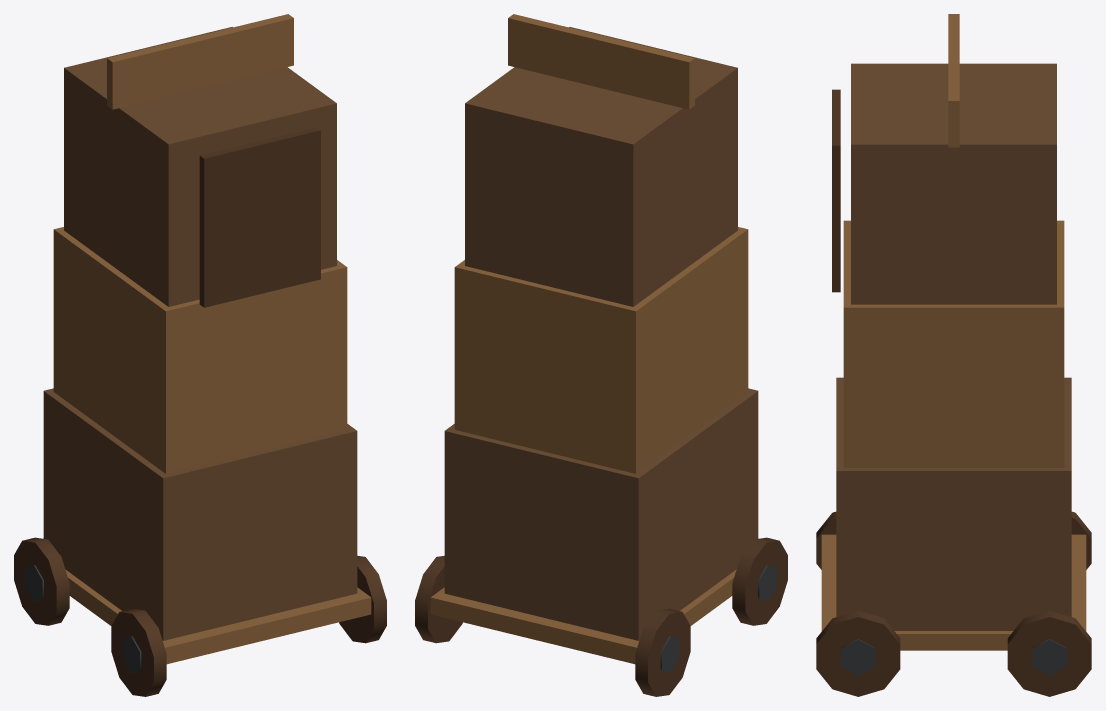
The model's file is unit_mil_siege_tower_a03.glb.
The picture shows the model from 3 angles, left to right: view 1: azimuth 30°, elevation 25°; view 2: azimuth 150°, elevation 25°; view 3: azimuth 270°, elevation 25°; orthographic projection.
Visible parts, largest first — view 1: body, bridge, wheel_2, wheel_0, wheel_3; view 2: body, wheel_0, wheel_2, wheel_1; view 3: body, wheel_1, wheel_3, bridge, wheel_0, wheel_2.
Part boxes in pixels (x1,y1,x2,y2): body: (43,14,371,664); bridge: (199,127,320,307); wheel_2: (111,608,166,696); wheel_0: (14,537,69,625); wheel_3: (339,555,386,643); body: (430,14,758,664); wheel_0: (635,608,690,696); wheel_2: (732,537,787,625); wheel_1: (415,555,462,643); body: (821,14,1086,650); wheel_1: (1007,610,1091,696); wheel_3: (816,610,900,696); bridge: (832,89,840,292); wheel_0: (1071,511,1091,569); wheel_2: (816,511,836,569).
Size of what is drawn, in the model's own units: 3.64 by 8.75 by 3.74.
